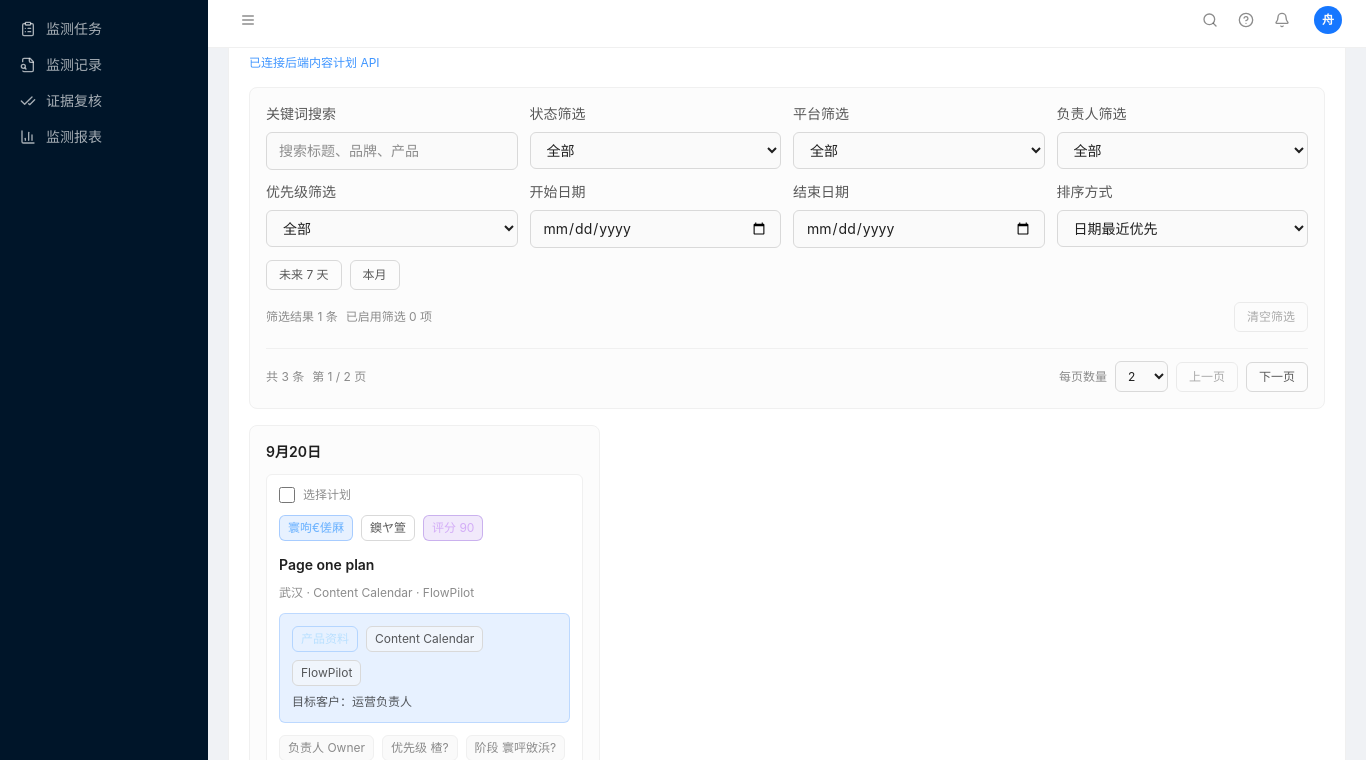
Test case: P28 内容日历独立页面 › supports API pagination and syncs URL params
(page scrolled)
Expected: the text "Page one plan" is shown, x1=279 y1=556 x2=374 y2=573
Expected: the text "共 3 条" is shown, x1=266 y1=368 x2=304 y2=384
Click the button "下一页". click: (1277, 376)
box: x1=1246 y1=362 x2=1308 y2=392
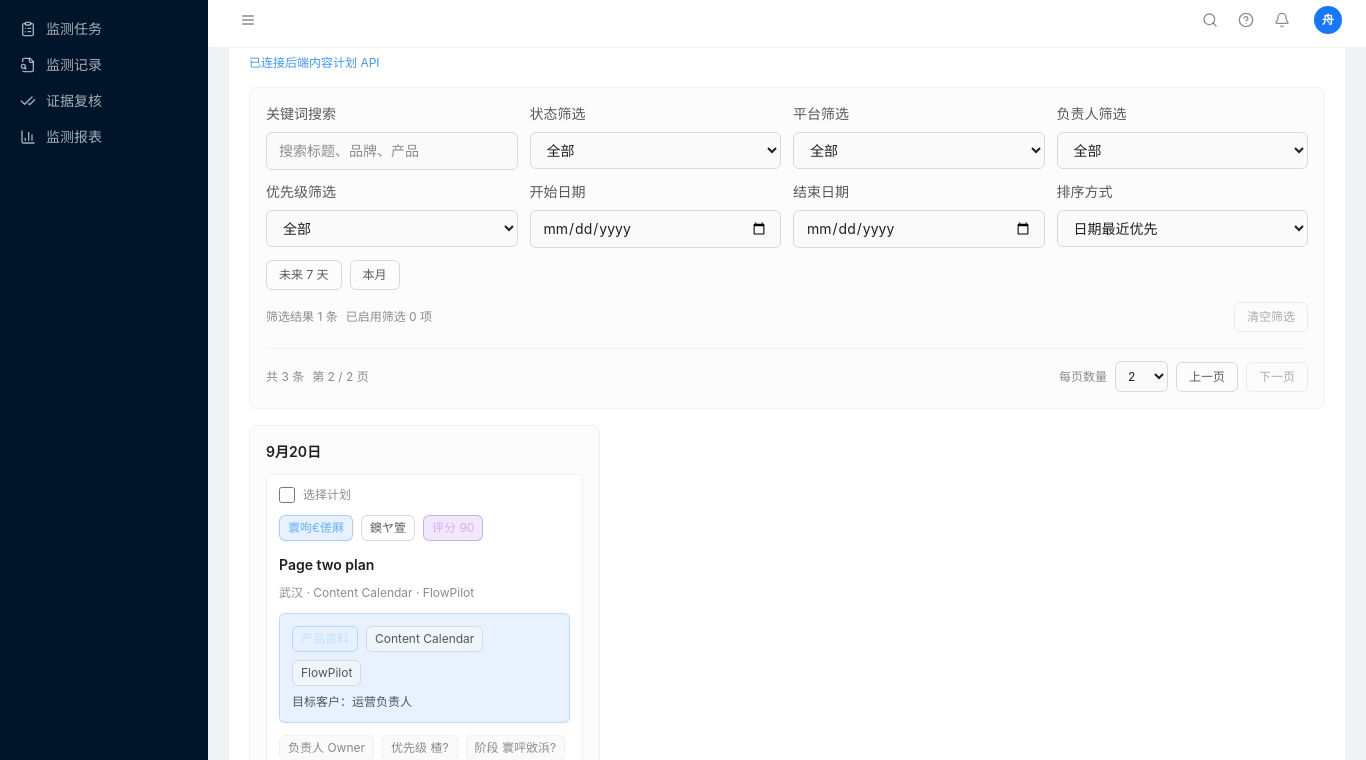
Expected: the text "Page two plan" is shown, x1=279 y1=556 x2=374 y2=573
Select "1" in the dropdown labelled "每页数量". click: (1142, 376)
box: x1=1115 y1=361 x2=1168 y2=392
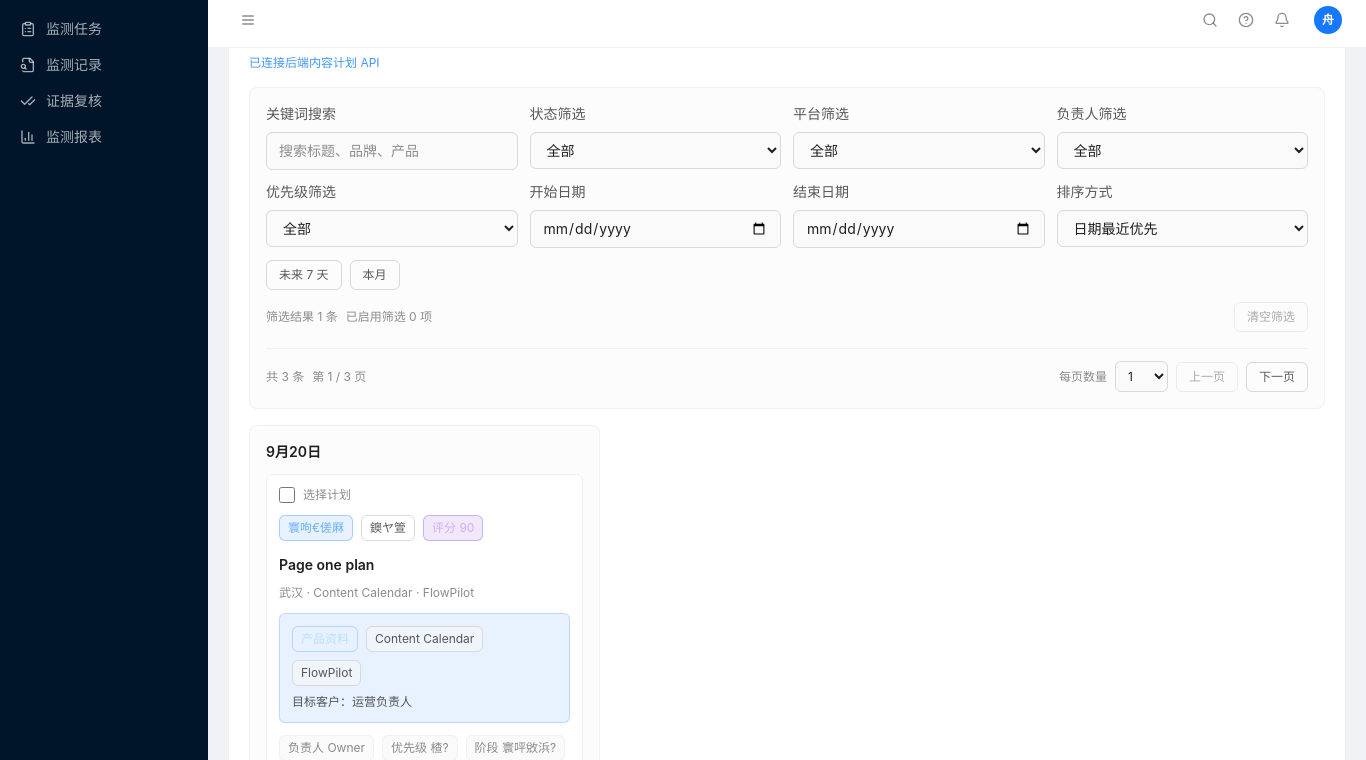
Expected: the text "Page one plan" is shown, x1=279 y1=556 x2=374 y2=573
